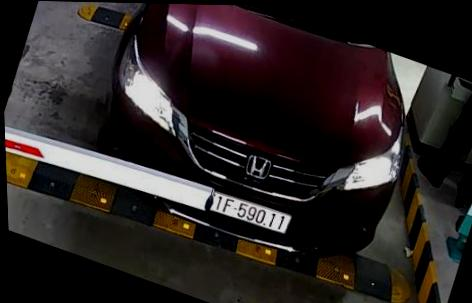License_Plate: (198, 178, 298, 238)
